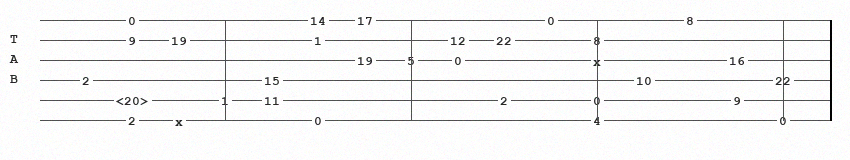0: (128, 14, 140, 26), (314, 114, 326, 126), (454, 54, 466, 66), (547, 14, 559, 26), (593, 94, 605, 106), (779, 114, 791, 126)
1: (221, 94, 233, 106), (314, 34, 326, 46)
10: (636, 74, 656, 86)
11: (264, 94, 284, 106)
12: (450, 34, 470, 46)
14: (310, 14, 330, 26)
15: (264, 74, 284, 86)
16: (729, 54, 749, 66)
17: (357, 14, 377, 26)
19: (171, 34, 191, 46), (357, 54, 377, 66)
2: (82, 74, 94, 86), (128, 114, 140, 126), (500, 94, 512, 106)
22: (496, 34, 516, 46), (775, 74, 795, 86)
4: (593, 114, 605, 126)
5: (407, 54, 419, 66)
8: (593, 34, 605, 46), (686, 14, 698, 26)
9: (128, 34, 140, 46), (733, 94, 745, 106)
harmonic: (116, 94, 153, 106)
x: (175, 115, 187, 125), (593, 55, 605, 65)
